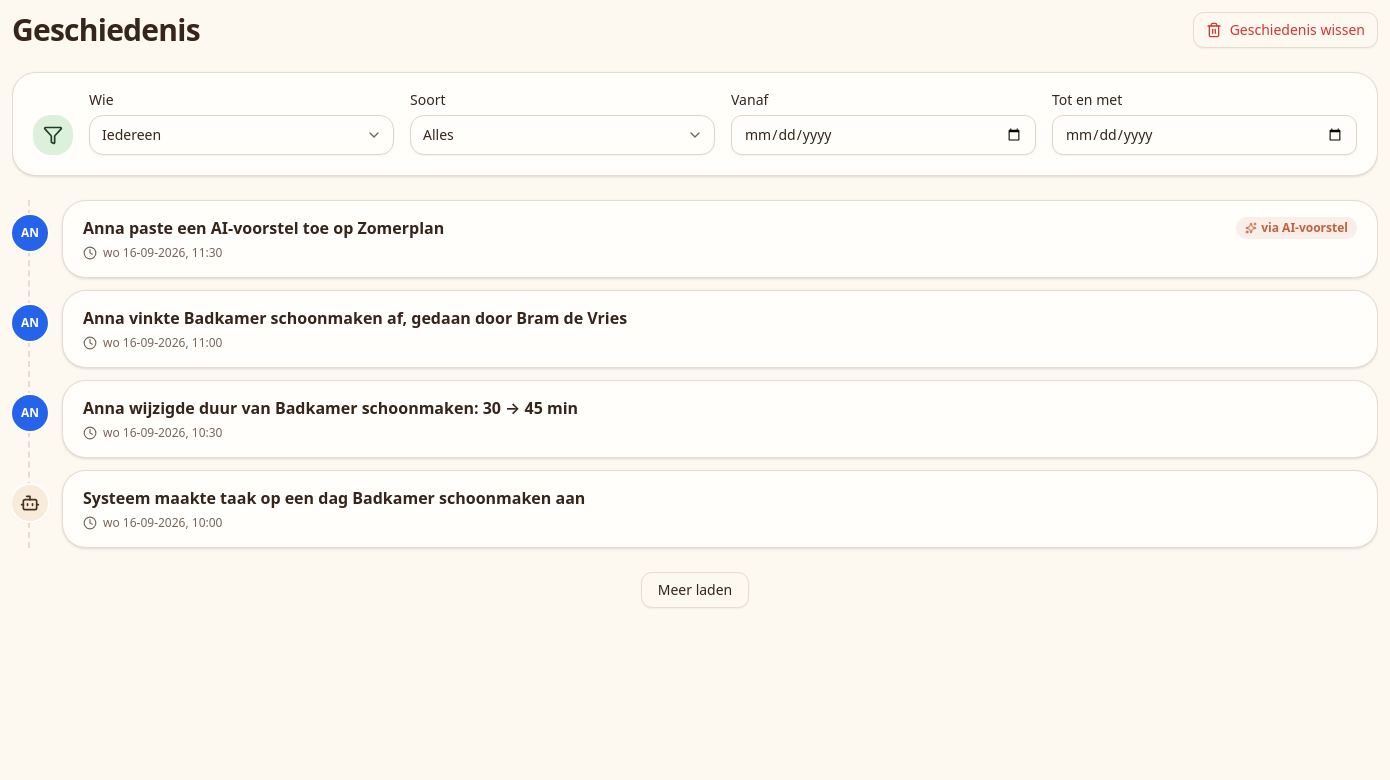
Test: HistoryPage › loads more entries with the cursor
This screenshot has width=1390, height=780.
expect the number of list items is 4: met, box [62, 200, 1378, 278]; [62, 290, 1378, 368]; [62, 380, 1378, 458]; [62, 470, 1378, 548]
Click the button "Meer laden". click: (695, 590)
box: [641, 572, 749, 608]
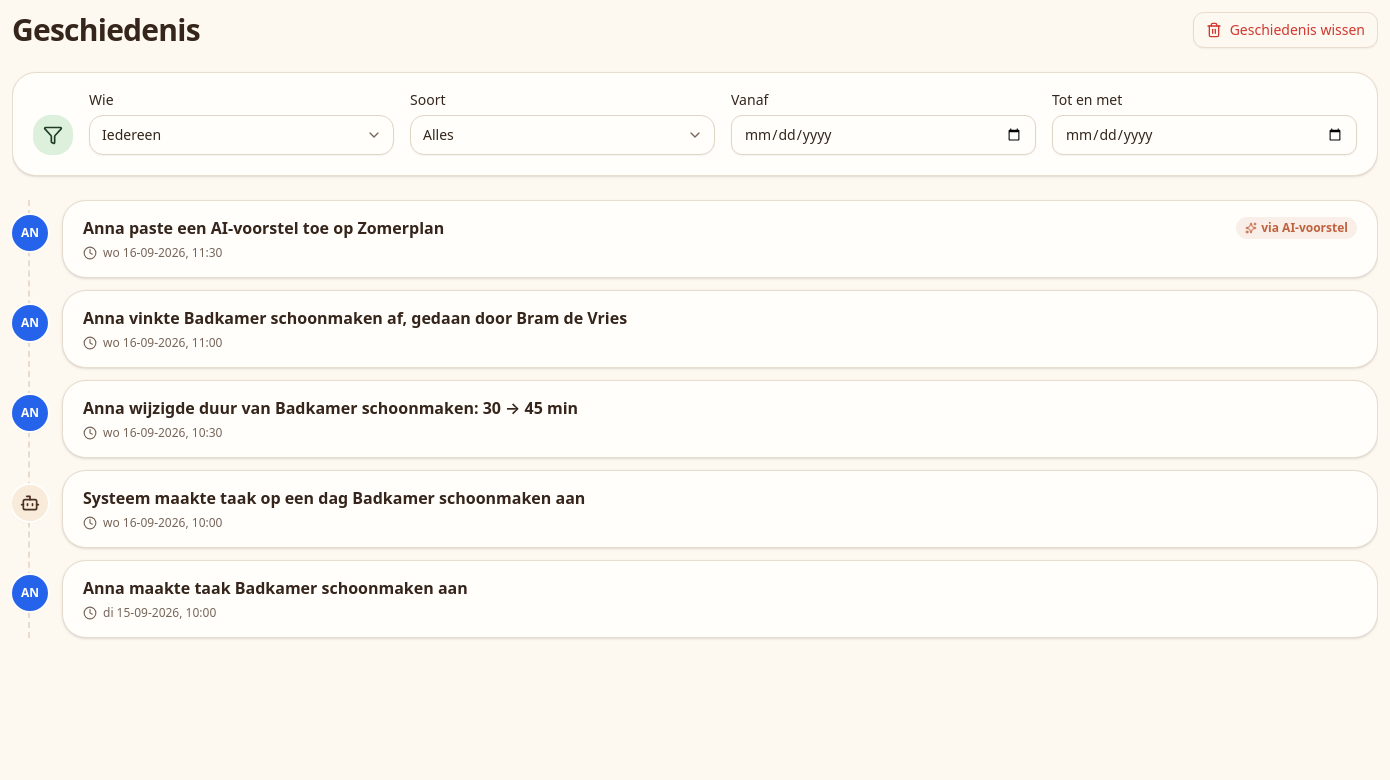
expect the number of list items is 5: met, box [62, 200, 1378, 278]; [62, 290, 1378, 368]; [62, 380, 1378, 458]; [62, 470, 1378, 548]; [62, 560, 1378, 638]
expect the button "Meer laden" is gone: met
